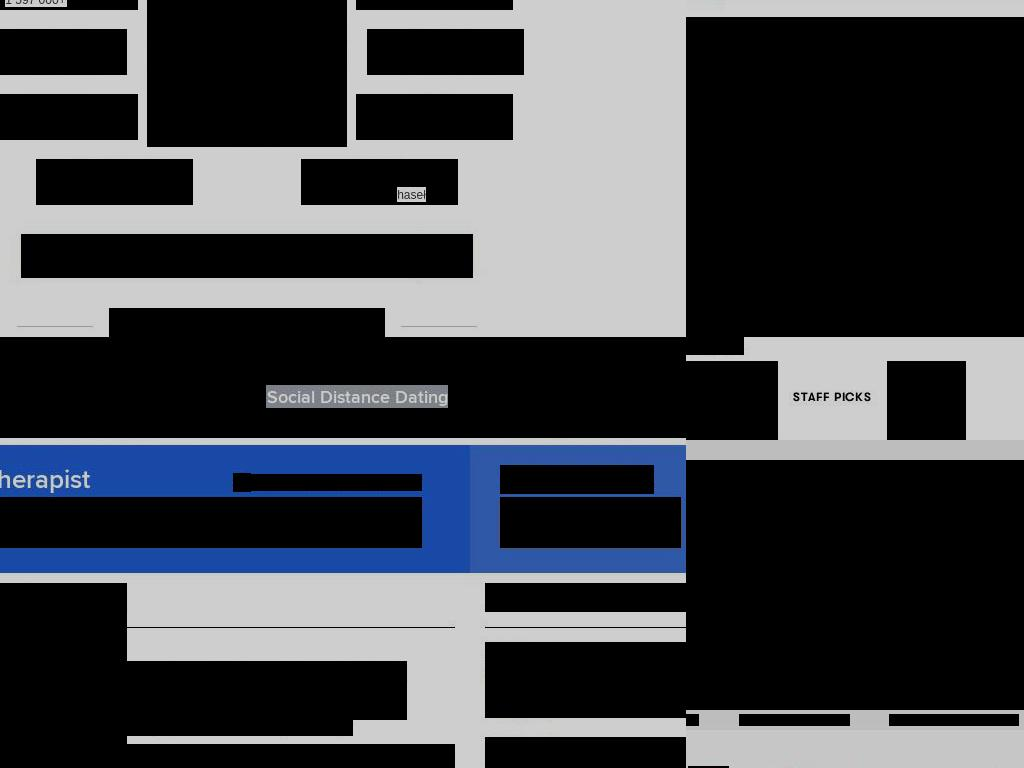button: (686, 17, 1024, 337), (485, 642, 686, 718), (686, 562, 1024, 602), (500, 497, 681, 548), (778, 361, 888, 440), (109, 308, 385, 337), (686, 361, 779, 440), (367, 29, 524, 75), (356, 94, 513, 140), (36, 159, 193, 205), (301, 159, 458, 205), (0, 94, 138, 140), (887, 361, 966, 440), (485, 737, 686, 768), (0, 29, 127, 75), (416, 234, 473, 278), (356, 0, 513, 10), (889, 714, 1019, 726), (739, 714, 850, 726), (752, 662, 850, 674), (686, 662, 712, 674), (686, 714, 699, 726)
field: (3, 497, 422, 548), (21, 234, 417, 278)
heading: (147, 0, 347, 147), (0, 583, 127, 768), (23, 661, 407, 720), (686, 40, 1024, 88), (0, 337, 218, 405), (23, 640, 72, 768), (485, 583, 686, 612), (514, 374, 623, 419), (500, 465, 654, 494), (266, 385, 448, 408), (514, 337, 622, 365), (0, 463, 90, 496), (266, 337, 371, 354)
iframe: (686, 460, 1024, 710)
image: (686, 99, 1024, 337), (0, 337, 686, 438), (485, 642, 560, 718), (485, 737, 560, 768), (123, 316, 149, 335), (233, 473, 251, 492), (385, 251, 398, 260), (358, 321, 371, 330)
label: (362, 244, 381, 269)
link: (686, 294, 972, 331), (367, 29, 524, 54), (356, 94, 513, 119), (36, 159, 193, 184), (301, 159, 458, 184), (0, 94, 138, 119), (0, 29, 127, 54), (226, 719, 353, 736), (761, 315, 856, 331), (40, 719, 114, 736), (394, 57, 456, 72), (17, 122, 79, 137), (390, 122, 452, 137), (64, 187, 126, 202), (333, 187, 394, 202), (0, 57, 59, 72), (5, 0, 67, 7), (385, 0, 446, 7)
text: (686, 210, 1024, 310), (23, 744, 455, 768), (686, 17, 1024, 40), (576, 646, 686, 710), (152, 317, 359, 333), (114, 719, 226, 736), (316, 474, 422, 491), (576, 752, 686, 768), (251, 474, 316, 491), (457, 57, 496, 72), (62, 57, 99, 72), (128, 187, 165, 202), (433, 246, 456, 269), (397, 187, 426, 202), (454, 122, 479, 137), (81, 122, 104, 137), (69, 0, 115, 7), (23, 719, 40, 736), (449, 0, 483, 7)
